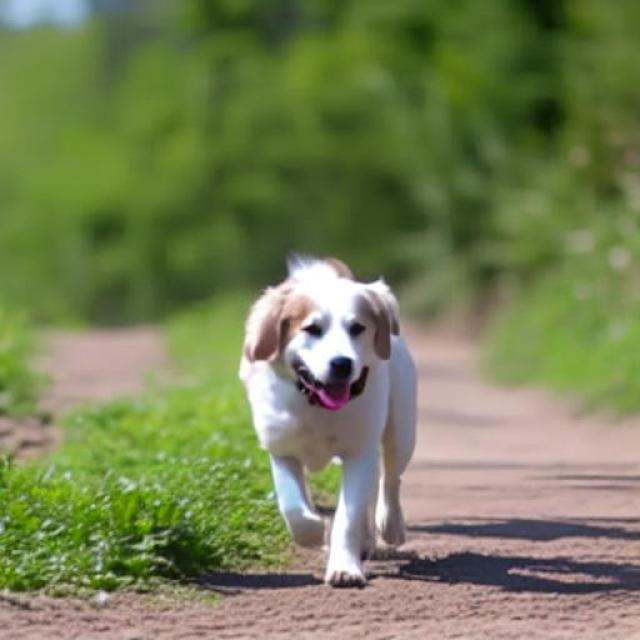Dog: (238, 248, 418, 589)
